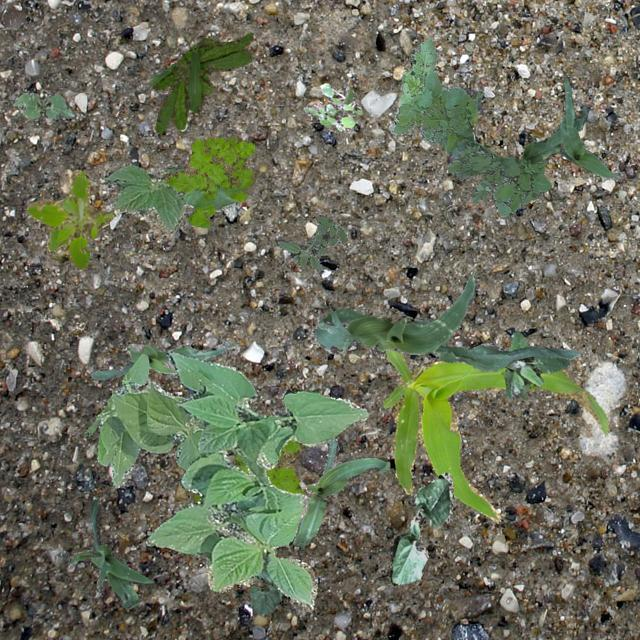crop: (144, 348, 368, 612), (382, 348, 610, 520), (310, 270, 578, 370), (86, 352, 226, 487), (292, 436, 388, 546), (522, 75, 616, 178), (66, 498, 152, 608), (104, 164, 236, 232), (388, 472, 452, 584), (90, 339, 230, 378), (12, 92, 74, 120), (248, 572, 280, 614)
weed: (390, 38, 550, 216), (150, 32, 252, 132), (24, 168, 112, 268), (164, 134, 254, 226), (190, 438, 306, 500), (500, 331, 568, 398), (274, 214, 346, 272), (302, 82, 360, 130)
